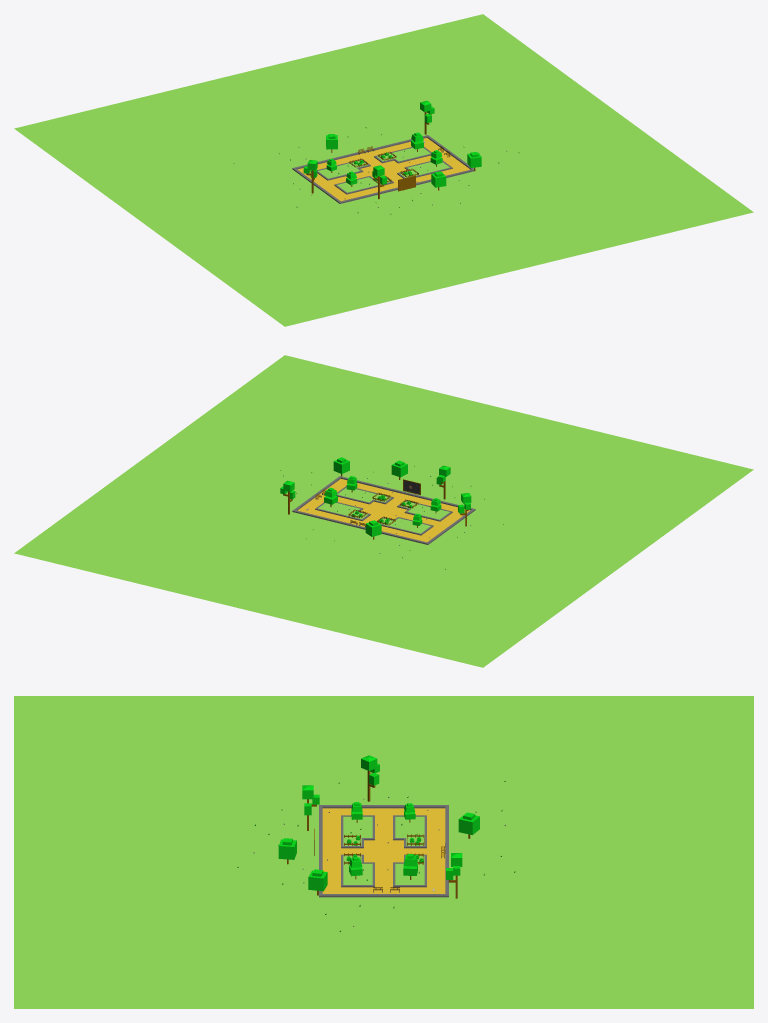
File: park.glb
The picture shows the model from 3 angles, top to bottom: view 1: azimuth 30°, elevation 25°; view 2: azimuth 150°, elevation 25°; view 3: azimuth 270°, elevation 25°; orthographic projection. The views are drawn at different scales.
Parts seen in each view (by area): view 1: Plane; view 2: Plane; view 3: Plane.
Part boxes in pixels (x1,y1,x2,y2): Plane: (14,14,753,326); Plane: (14,355,753,667); Plane: (14,696,753,1008).
Size of the model in its own units: 35.19 by 2.3 by 35.19.
Materials: 12 (1 with a texture image).
